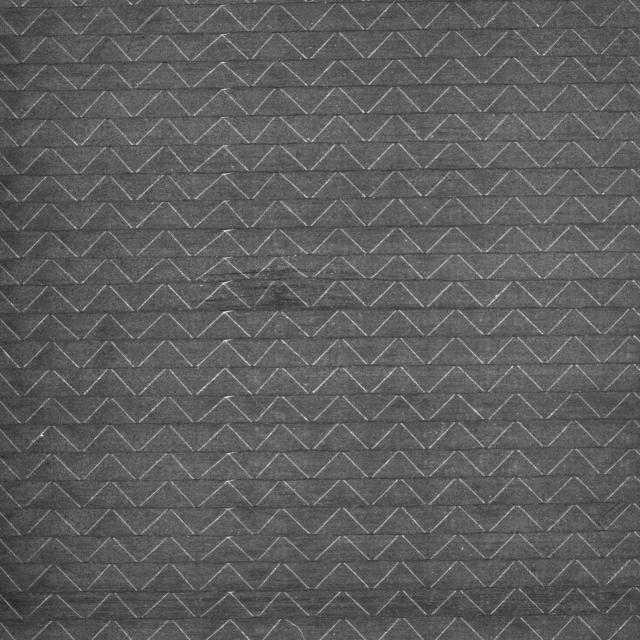carbon-fibre-defect: (189, 253, 364, 311)
